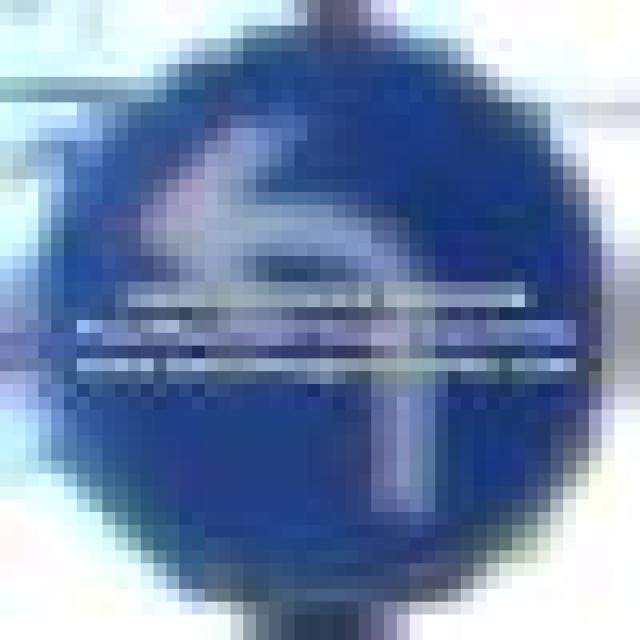compulsory_sound_horn: (26, 26, 588, 576)
